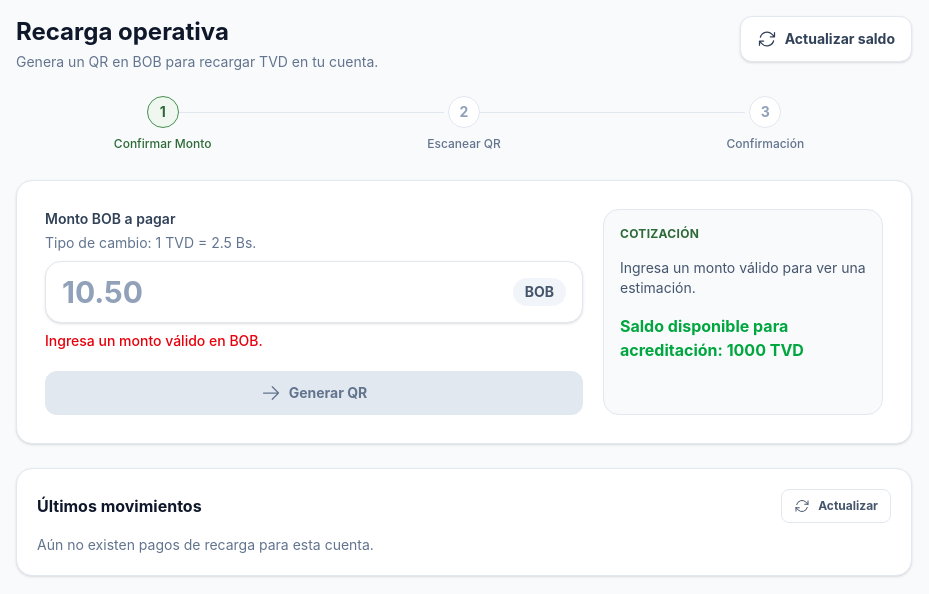
Test: Admin tenant operational recharge › TVD-QR-P0-003 | bloquea montos invalidos antes de consultar cotizacion o crear QR
Type "0" into the field labelled "Monto BOB a pagar" at (281, 292), box [62,274,501,310]
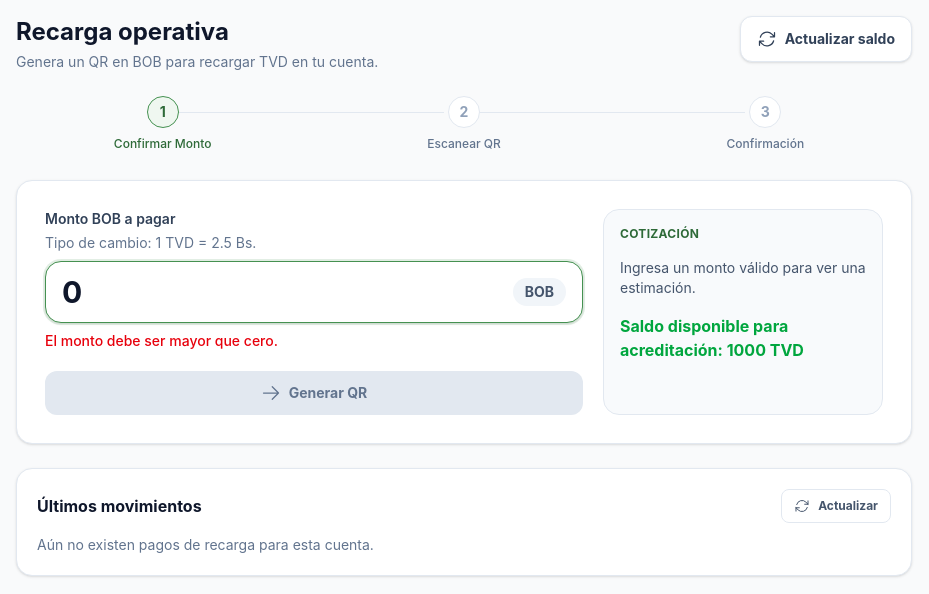
Expected: the button "Generar QR" is disabled, [45,371,583,415]
Now the text "El monto debe ser mayor que cero." is shown, box [45,332,278,349]
Replace the text in the field labelled "Monto BOB a pagar" with "10.555" at (281, 292), box [62,274,501,310]
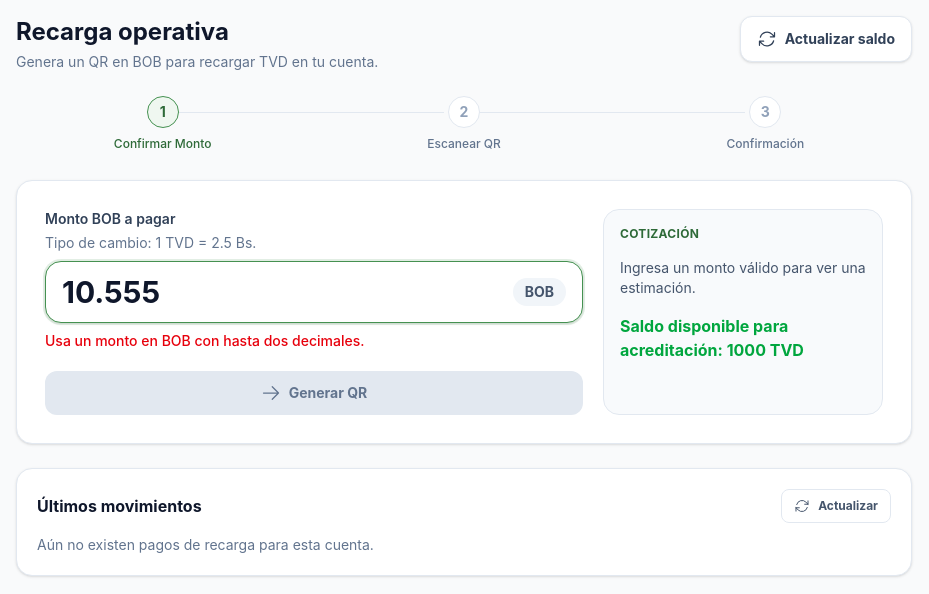
Now the text "Usa un monto en BOB con hasta dos decimales." is shown, box [45,332,364,349]
